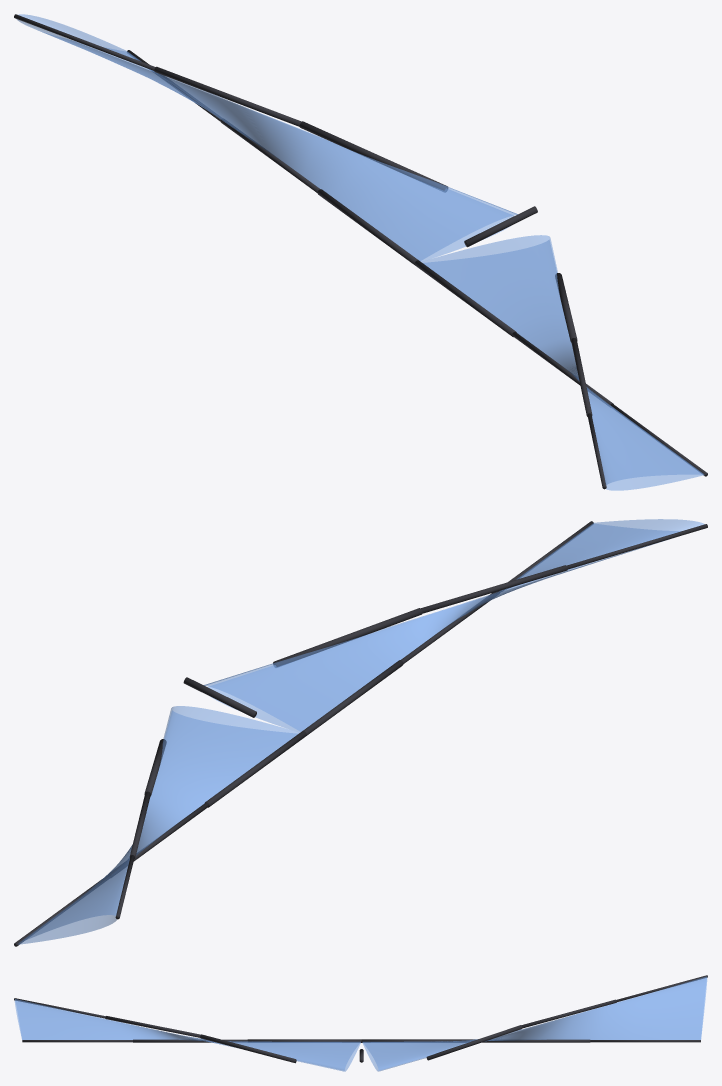
The model's file is deployed.glb.
3 renders of one model, top to bottom at view 1: azimuth 30°, elevation 25°; view 2: azimuth 150°, elevation 25°; view 3: azimuth 270°, elevation 25°, orthographic. The views are drawn at different scales.
Visible parts, largest first — view 1: wing_R, wing_L, tip1_R, tip2_R, te1_L, te1_R; view 2: wing_L, wing_R, tip1_L, tip2_L, te1_R, te1_L, tip3_L; view 3: wing_R, wing_L, tip1_R, tip1_L, te1_L, te1_R, tip2_L, tip2_R, te2_R, te2_L, te3_R, te3_L (+2 smaller).
Part boxes in pixels (<box>): wing_R: <box>16,14,517,261</box>; wing_L: <box>421,235,704,490</box>; tip1_R: <box>299,121,448,191</box>; tip2_R: <box>154,66,301,126</box>; te1_L: <box>414,260,516,337</box>; te1_R: <box>317,189,418,264</box>; wing_L: <box>204,519,704,732</box>; wing_R: <box>18,706,299,944</box>; tip1_L: <box>273,608,422,667</box>; tip2_L: <box>421,565,567,613</box>; te1_R: <box>205,731,306,807</box>; te1_L: <box>303,660,403,735</box>; tip3_L: <box>567,524,707,569</box>; wing_R: <box>362,976,707,1071</box>; wing_L: <box>14,999,360,1071</box>; tip1_R: <box>426,1025,522,1060</box>; tip1_L: <box>200,1034,296,1063</box>; te1_L: <box>247,1039,361,1042</box>; te1_R: <box>361,1039,475,1042</box>; tip2_L: <box>105,1016,200,1037</box>; tip2_R: <box>521,999,616,1028</box>; te2_R: <box>482,1039,590,1042</box>; te2_L: <box>133,1039,247,1042</box>; te3_R: <box>590,1040,700,1042</box>; te3_L: <box>22,1040,132,1042</box>.
Size of what is drawn, in the model's own units: 1.64 by 0.4294 by 7.33.
